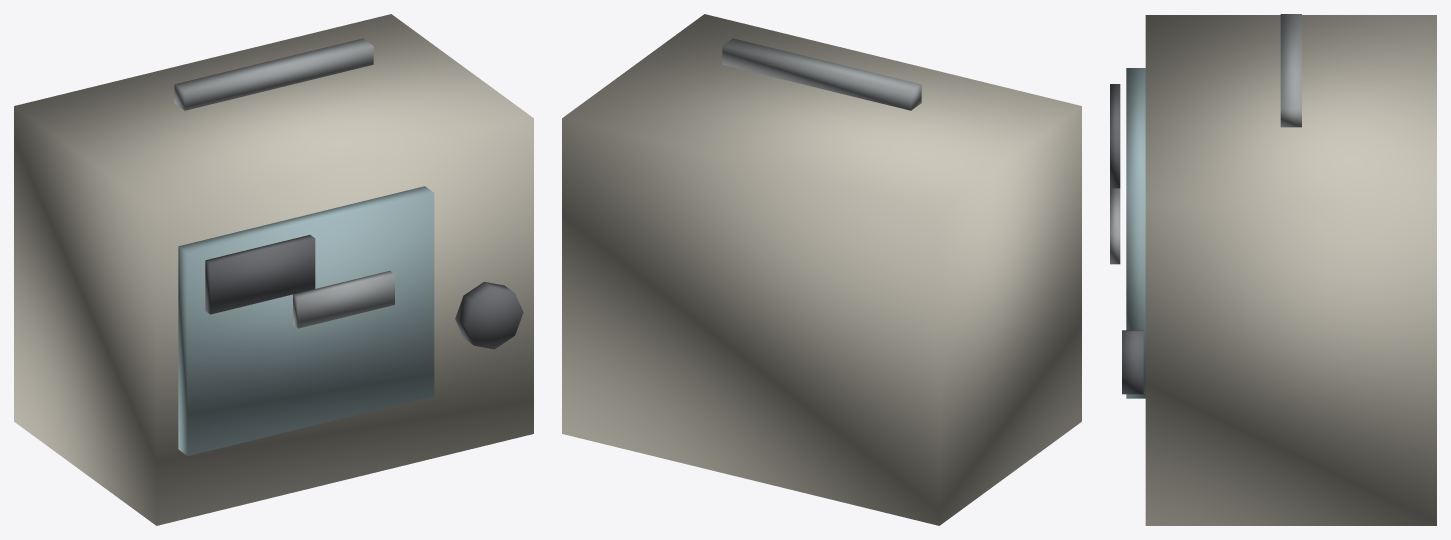
Rendered from portable_television__weathered.glb.
3 views of the same model, side by side, from view 1: azimuth 30°, elevation 25°; view 2: azimuth 150°, elevation 25°; view 3: azimuth 270°, elevation 25° (orthographic). The views are drawn at different scales.
Parts seen in each view (by area): view 1: world; view 2: world; view 3: world.
Part boxes in pixels (<box>): world: <box>14,14,533,525</box>; world: <box>562,14,1081,525</box>; world: <box>1110,14,1436,525</box>.
Size of the model in its own units: 0.52 by 0.4777 by 0.3815.
